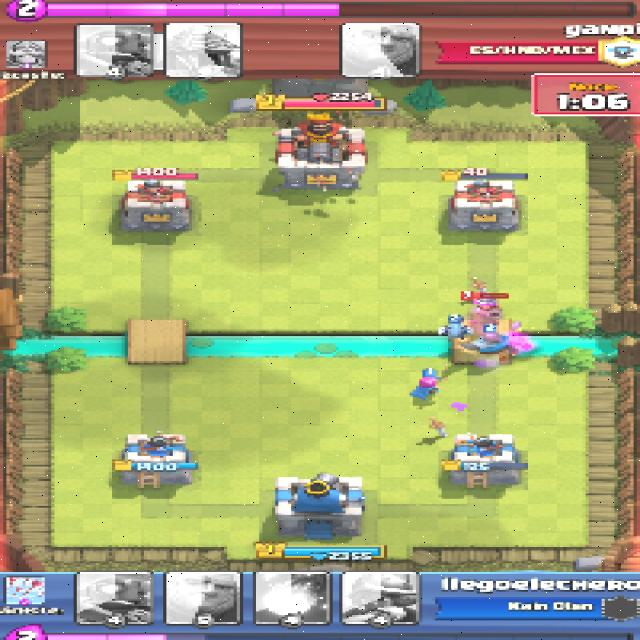Enemy-Musketeer: (469, 298, 504, 318)
Player-Archer: (410, 378, 440, 401)
Player-Knight: (459, 334, 518, 355)
Player-Minion: (440, 323, 469, 338)
